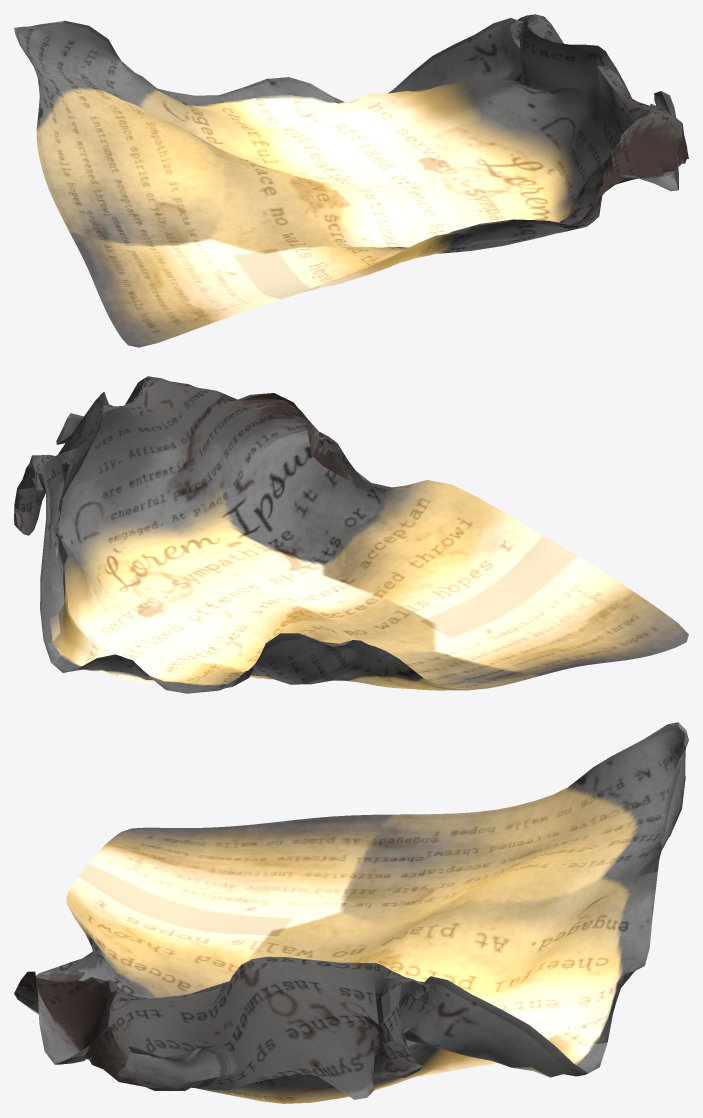
The model's file is SM_Crumpled_Paper_01a.fbx.
3 renders of one model, top to bottom at view 1: azimuth 30°, elevation 25°; view 2: azimuth 150°, elevation 25°; view 3: azimuth 270°, elevation 25°, orthographic. The views are drawn at different scales.
Visible parts, largest first — view 1: SM_Crumpled_Paper_01a_LOD0; view 2: SM_Crumpled_Paper_01a_LOD0; view 3: SM_Crumpled_Paper_01a_LOD0.
Part boxes in pixels (x1,y1,x2,y2): SM_Crumpled_Paper_01a_LOD0: [14, 14, 688, 347]; SM_Crumpled_Paper_01a_LOD0: [14, 376, 688, 693]; SM_Crumpled_Paper_01a_LOD0: [14, 722, 688, 1103].
Bounding box in the file's own units: 9.61 × 8.09 × 2.33.
